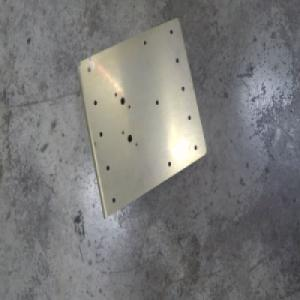MetalSheet: (74, 14, 207, 222)
